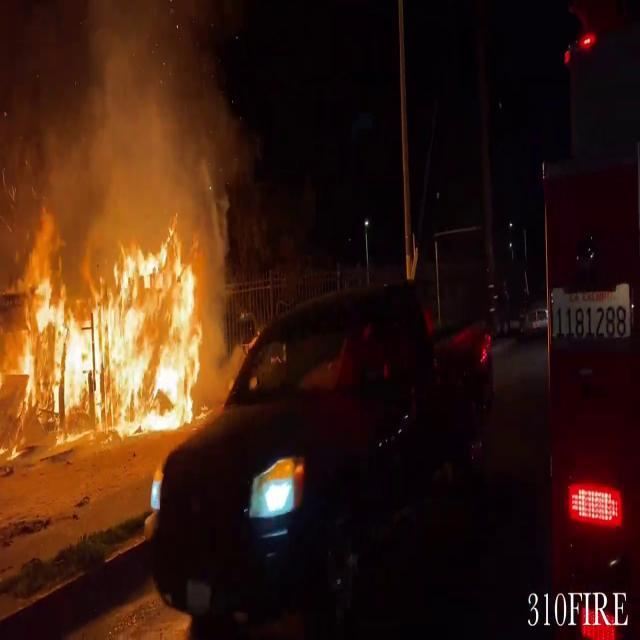Fire: (1, 200, 217, 446)
Smoke: (1, 1, 239, 236)
